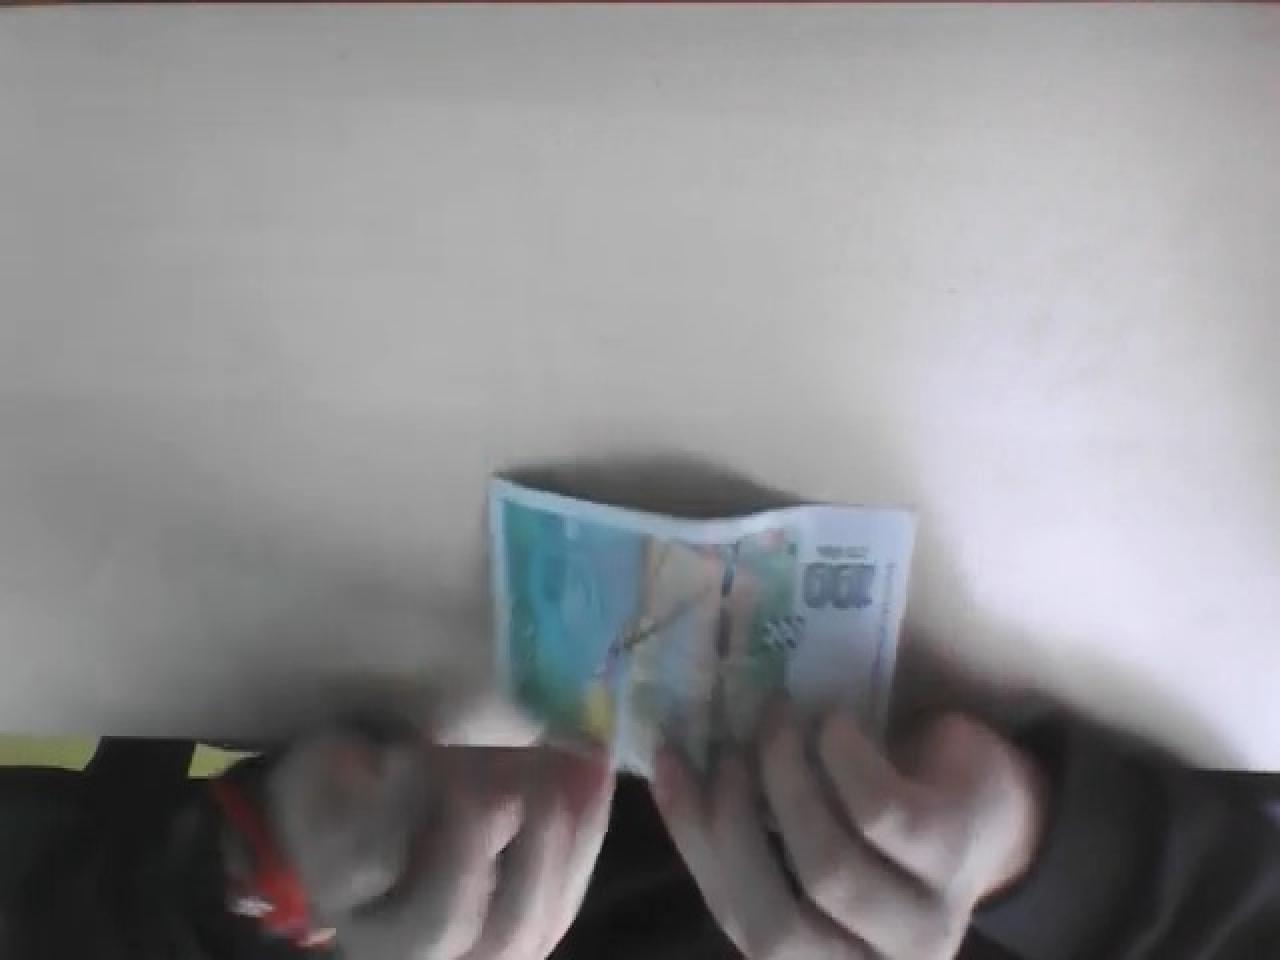100leva: (490, 477, 982, 960)
